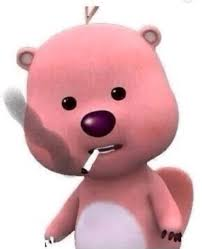Loopy: (15, 3, 197, 249)
